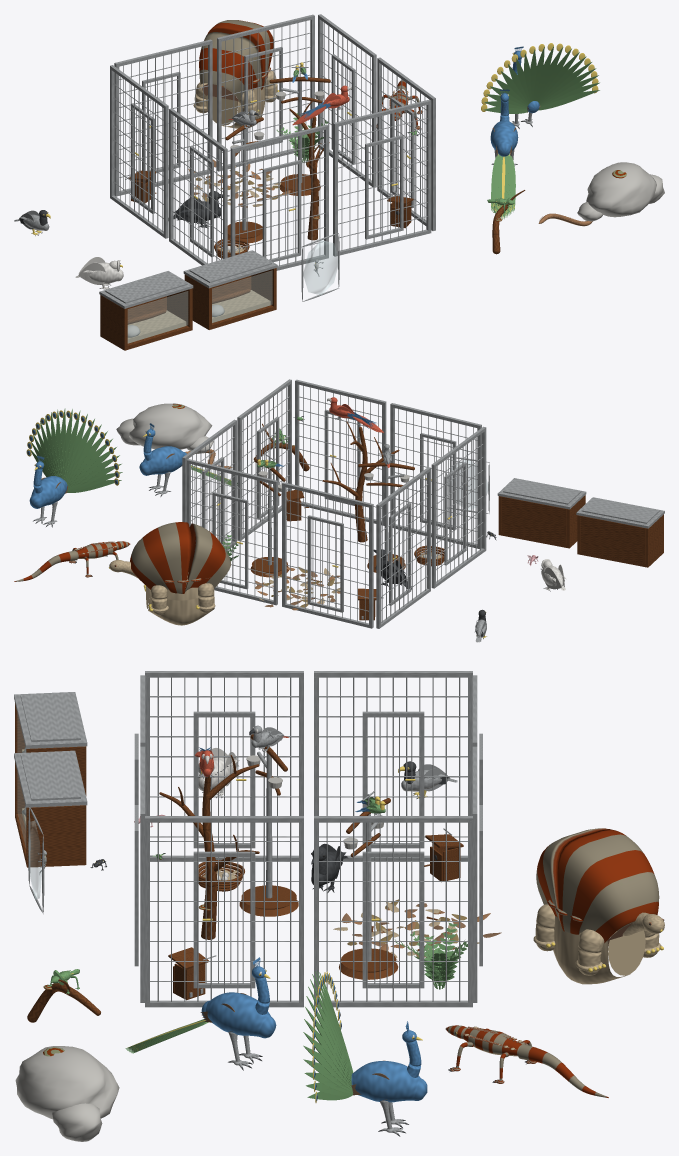
File: birds-and-reptiles-hd-aviary-and-vivarium-range-86fb2e30__28133.glb
3 views of the same model, one above another, from view 1: azimuth 30°, elevation 25°; view 2: azimuth 150°, elevation 25°; view 3: azimuth 270°, elevation 25° (orthographic). The views are drawn at different scales.
Visible parts, largest first — view 1: 001-aviary-flight-panel/0, 004-aviary-flight-panel/0, 000-aviary-flight-panel/0, 003-aviary-flight-panel/0, 022-indian-peacock-displayed/7, 005-aviary-flight-panel/0, 032-galapagos-giant-tortoise/0, 002-aviary-flight-panel/0, 006-aviary-flight-panel/0, 035-basking-rock/0, 007-aviary-flight-panel/0, 026-vivarium-terrarium/0 (+29 smaller); view 2: 032-galapagos-giant-tortoise/0, 022-indian-peacock-displayed/7, 002-aviary-flight-panel/0, 005-aviary-flight-panel/0, 004-aviary-flight-panel/0, 003-aviary-flight-panel/0, 026-vivarium-terrarium/0, 000-aviary-flight-panel/0, 007-aviary-flight-panel/0, 001-aviary-flight-panel/0, 027-vivarium-terrarium/0, 035-basking-rock/0 (+24 smaller); view 3: 032-galapagos-giant-tortoise/0, 006-aviary-flight-panel/0, 007-aviary-flight-panel/0, 004-aviary-flight-panel/0, 005-aviary-flight-panel/0, 035-basking-rock/0, 032-galapagos-giant-tortoise/1, 027-vivarium-terrarium/0, 022-indian-peacock-displayed/7, 027-vivarium-terrarium/hood-vivarium, 026-vivarium-terrarium/hood-vivarium, 022-indian-peacock-displayed/0 (+22 smaller).
Part boxes in pixels (bbox=[...]): 001-aviary-flight-panel/0: bbox=[333, 99, 431, 256]; 004-aviary-flight-panel/0: bbox=[110, 65, 168, 238]; 000-aviary-flight-panel/0: bbox=[230, 124, 328, 270]; 003-aviary-flight-panel/0: bbox=[217, 14, 314, 171]; 022-indian-peacock-displayed/7: bbox=[484, 46, 599, 113]; 005-aviary-flight-panel/0: bbox=[169, 108, 227, 265]; 032-galapagos-giant-tortoise/0: bbox=[199, 20, 273, 104]; 002-aviary-flight-panel/0: bbox=[114, 39, 212, 196]; 006-aviary-flight-panel/0: bbox=[318, 14, 376, 187]; 035-basking-rock/0: bbox=[577, 162, 664, 221]; 007-aviary-flight-panel/0: bbox=[377, 57, 435, 230]; 026-vivarium-terrarium/0: bbox=[100, 288, 192, 350]; 032-galapagos-giant-tortoise/0: bbox=[114, 522, 230, 593]; 022-indian-peacock-displayed/7: bbox=[30, 408, 122, 492]; 002-aviary-flight-panel/0: bbox=[282, 482, 373, 628]; 005-aviary-flight-panel/0: bbox=[431, 426, 486, 588]; 004-aviary-flight-panel/0: bbox=[376, 467, 430, 628]; 003-aviary-flight-panel/0: bbox=[186, 459, 277, 605]; 026-vivarium-terrarium/0: bbox=[577, 514, 663, 567]; 000-aviary-flight-panel/0: bbox=[390, 403, 481, 549]; 007-aviary-flight-panel/0: bbox=[237, 379, 291, 540]; 001-aviary-flight-panel/0: bbox=[295, 379, 386, 525]; 027-vivarium-terrarium/0: bbox=[498, 495, 585, 548]; 035-basking-rock/0: bbox=[116, 403, 213, 453]; 032-galapagos-giant-tortoise/0: bbox=[536, 828, 663, 945]; 006-aviary-flight-panel/0: bbox=[314, 816, 472, 1007]; 007-aviary-flight-panel/0: bbox=[145, 816, 303, 1007]; 004-aviary-flight-panel/0: bbox=[314, 671, 472, 860]; 005-aviary-flight-panel/0: bbox=[145, 671, 303, 860]; 035-basking-rock/0: bbox=[15, 1046, 119, 1141]; 032-galapagos-giant-tortoise/1: bbox=[533, 904, 664, 984]; 027-vivarium-terrarium/0: bbox=[15, 762, 86, 867]; 022-indian-peacock-displayed/7: bbox=[303, 970, 353, 1100]; 027-vivarium-terrarium/hood-vivarium: bbox=[14, 750, 87, 807]; 026-vivarium-terrarium/hood-vivarium: bbox=[14, 692, 87, 748]; 022-indian-peacock-displayed/0: bbox=[313, 974, 427, 1102].
Bounding box in the file's own units: 9.68 × 2.31 × 6.55.
Materials: 16 (12 with a texture image).
